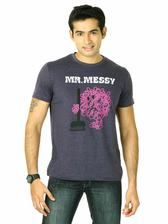clothoes: (31, 50, 142, 183)
